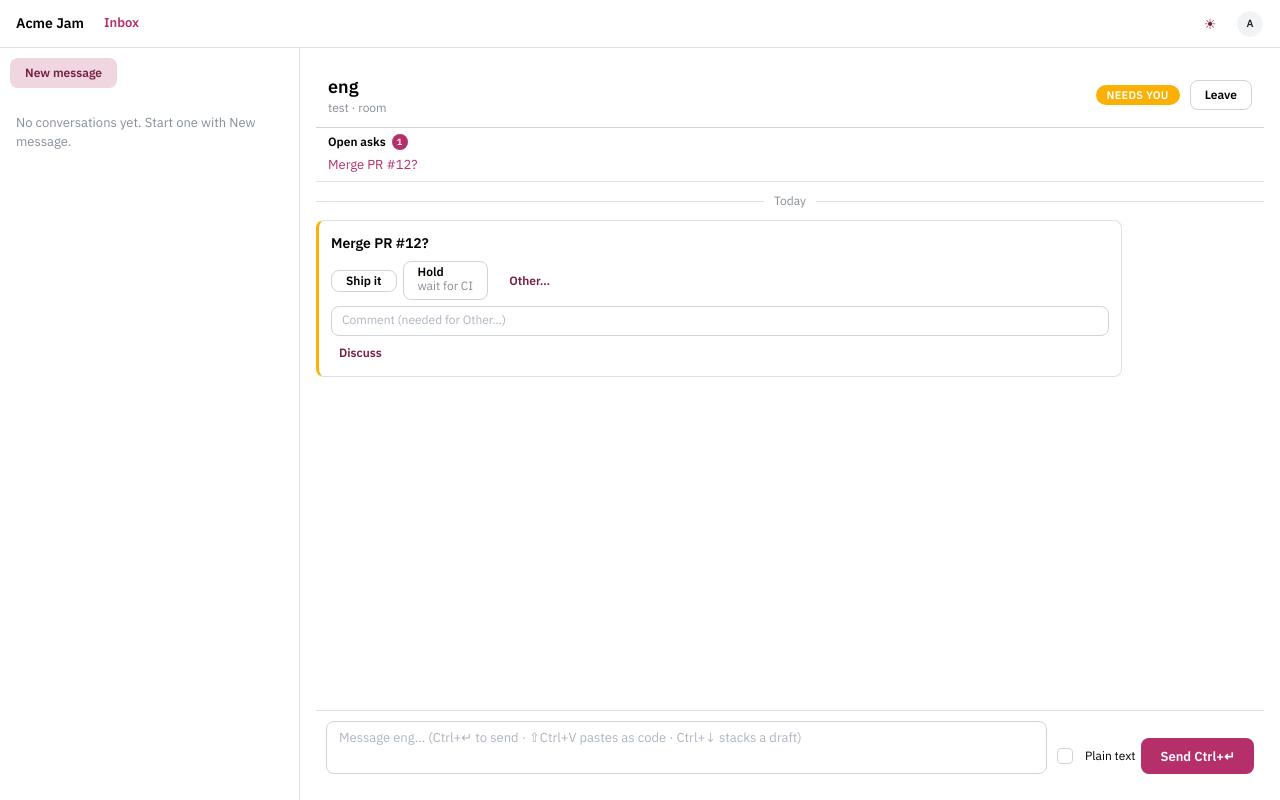
it: ask cards › refuses Other… without a comment
Click the button "Other…".
click(530, 280)  # box x1=494 y1=266 x2=565 y2=296
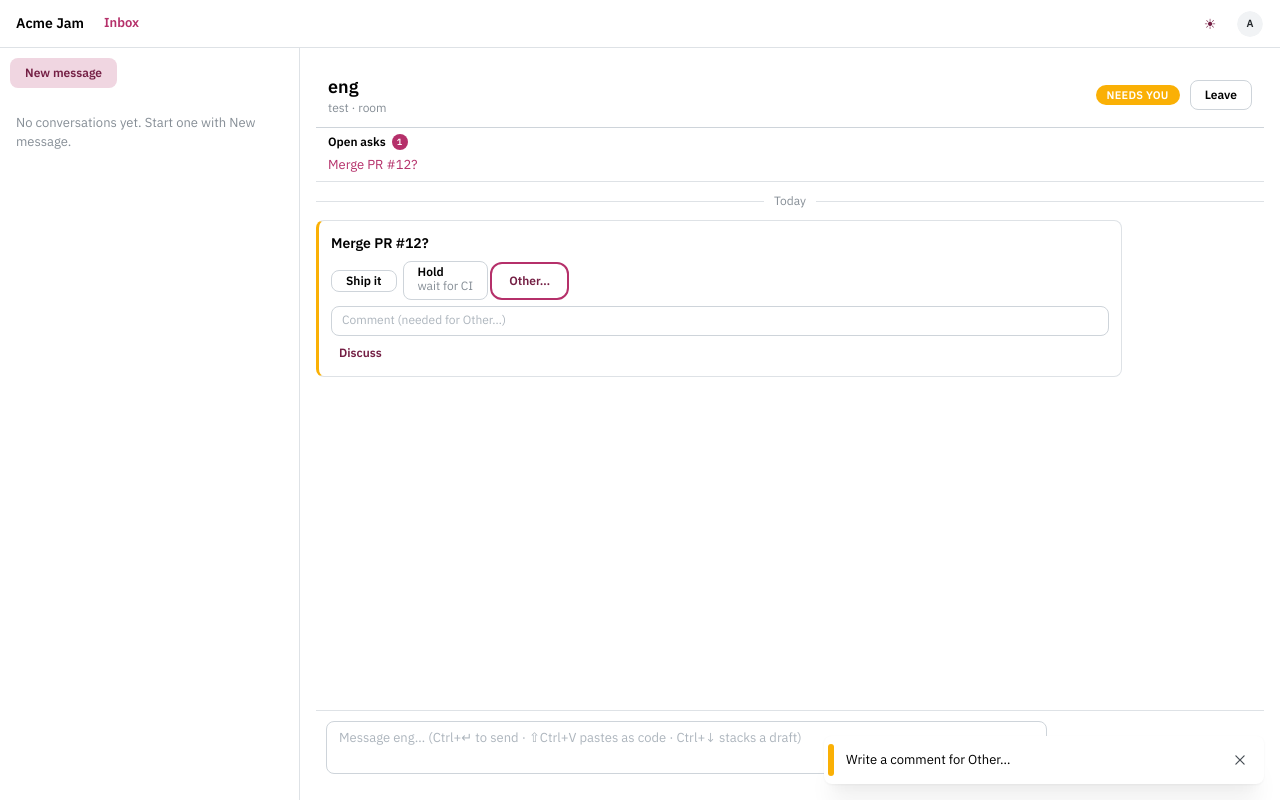
Result: the text "Write a comment for Other…" is shown at x1=846 y1=751 x2=1010 y2=768
